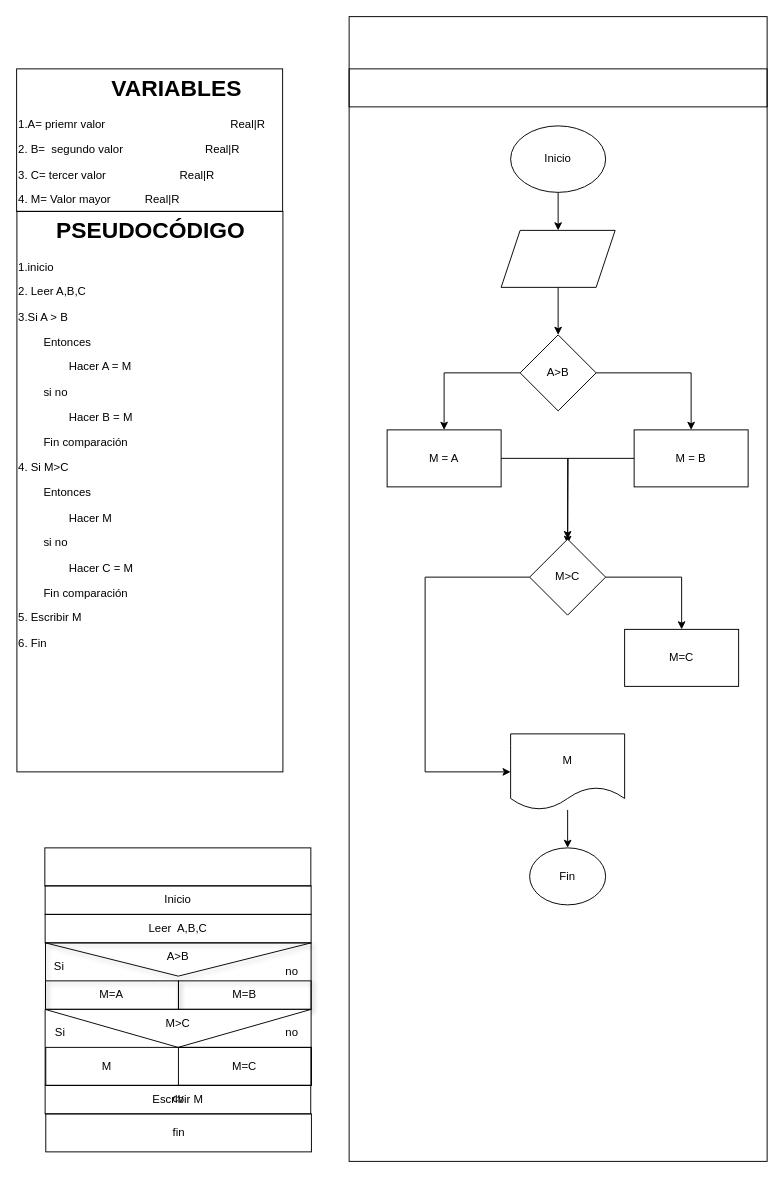
Some shapes in this 784 by 1178 pixel diagram are drawn without their labels. The shapes that lost their labels are listed below. From the top down, each one's centre as x and y in pixels, then its label:
At pixel 557 87: "DIAGRAMA DE FLUJO".
At pixel 557 258: "A,B,C".
At pixel 177 866: "DIAGRAMA N/S .".
